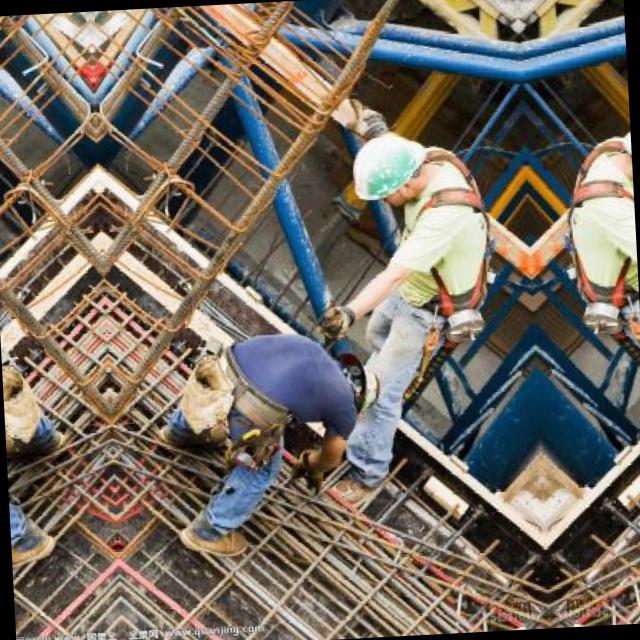helmet: (336, 125, 444, 221), (326, 342, 390, 421), (605, 115, 631, 208)
